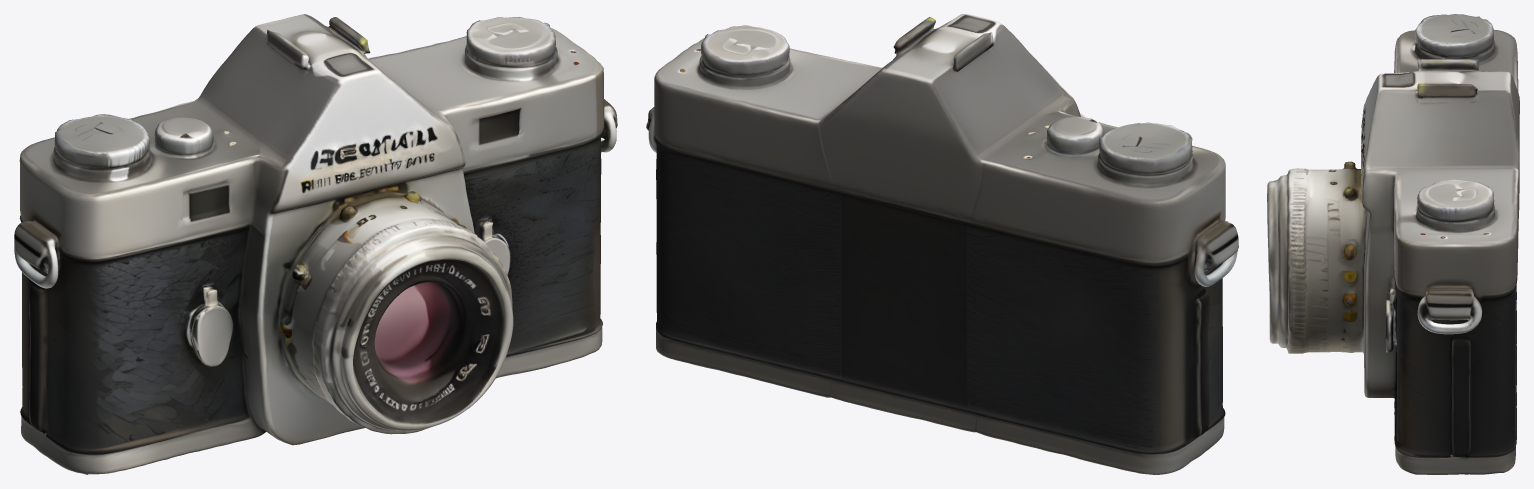
File: rodin-camera-test_base_basic_pbr.glb
3 views of the same model, side by side, from view 1: azimuth 30°, elevation 25°; view 2: azimuth 150°, elevation 25°; view 3: azimuth 270°, elevation 25° (orthographic). The views are drawn at different scales.
Parts seen in each view (by area): view 1: model; view 2: model; view 3: model.
Boxes of the visible parts, x1,y1,x2,y2 form: model: [14, 14, 617, 474]; model: [646, 14, 1238, 474]; model: [1267, 14, 1519, 474].
Bounding box in the file's own units: 1.79 × 1.05 × 0.8107.
Materials: 1 (1 with a texture image).
